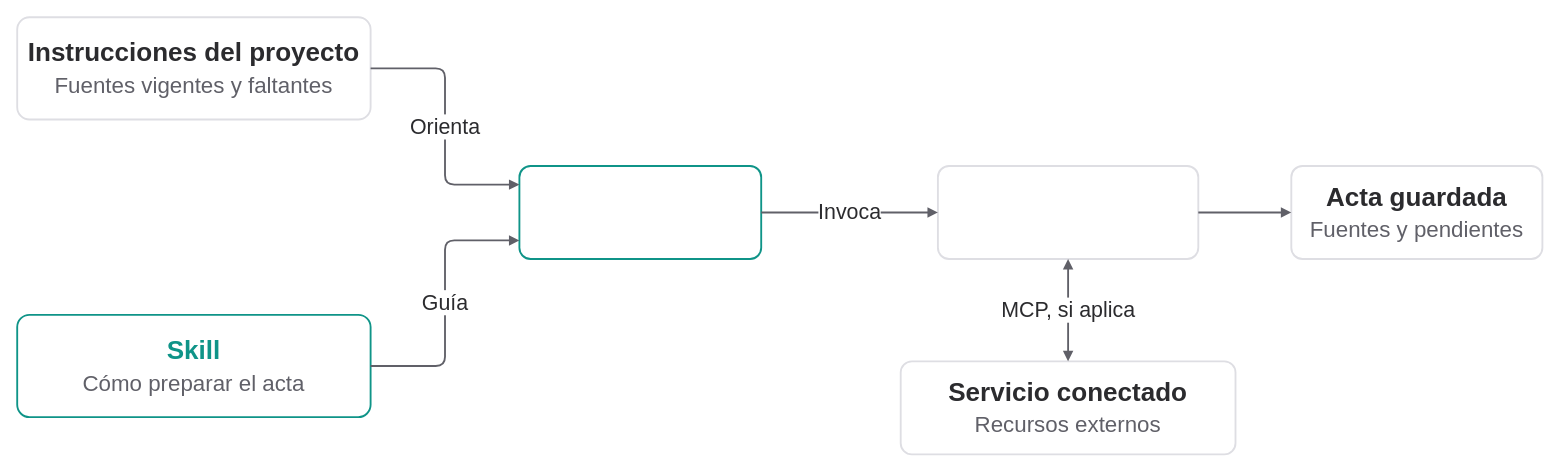
Some shapes in this 1559 by 471 pixel diagram are drawn without their labels. The centre of each missing label's shape, as x and y in pixels:
"Agente Interpreta y decide" goes at pixel 640 212.
"Herramientas Leer y guardar" goes at pixel 1068 212.
